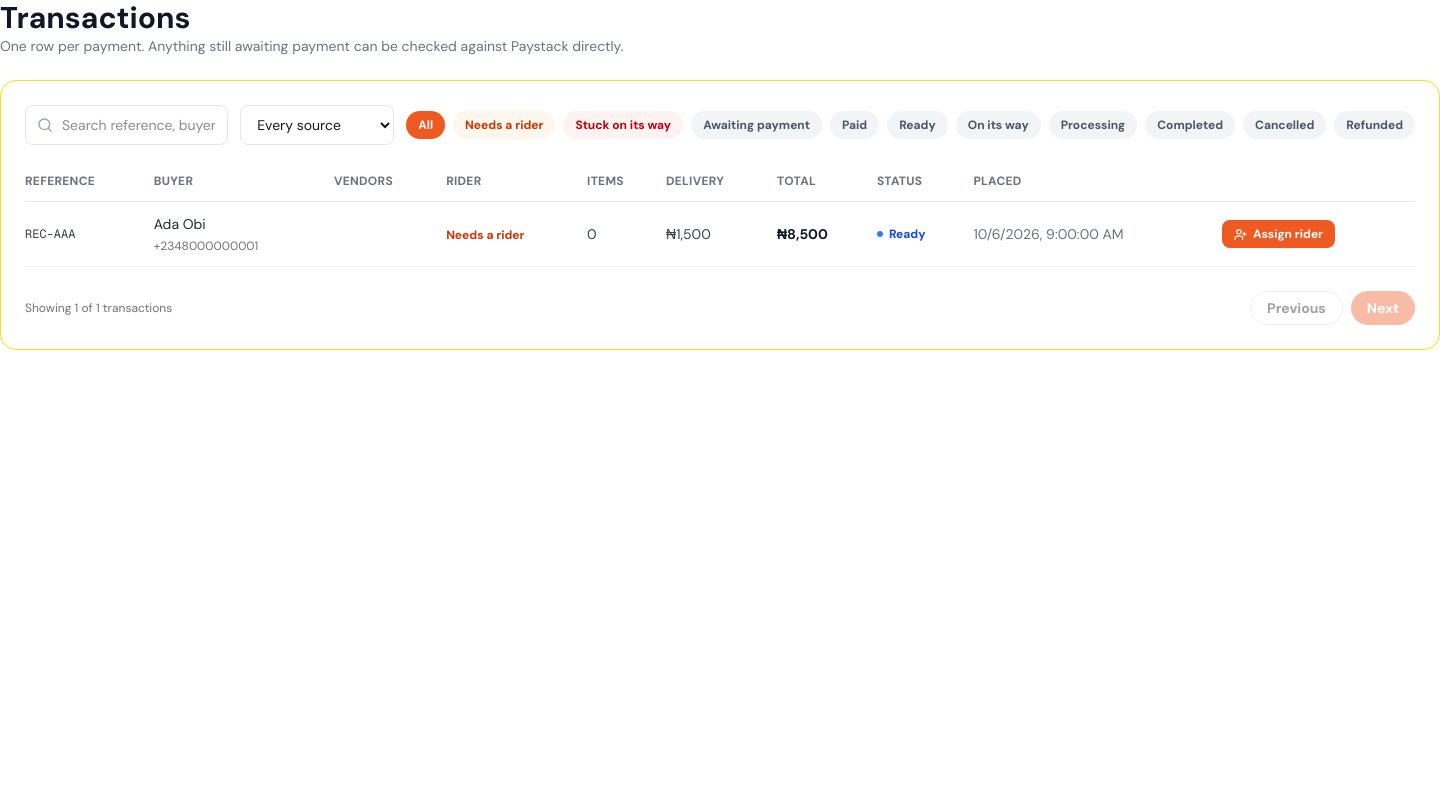
Test: Transactions — riders › opens the picker from the row
The image size is (1440, 810).
Click the button "Assign rider" at (1278, 234), box x1=1222 y1=220 x2=1335 y2=248
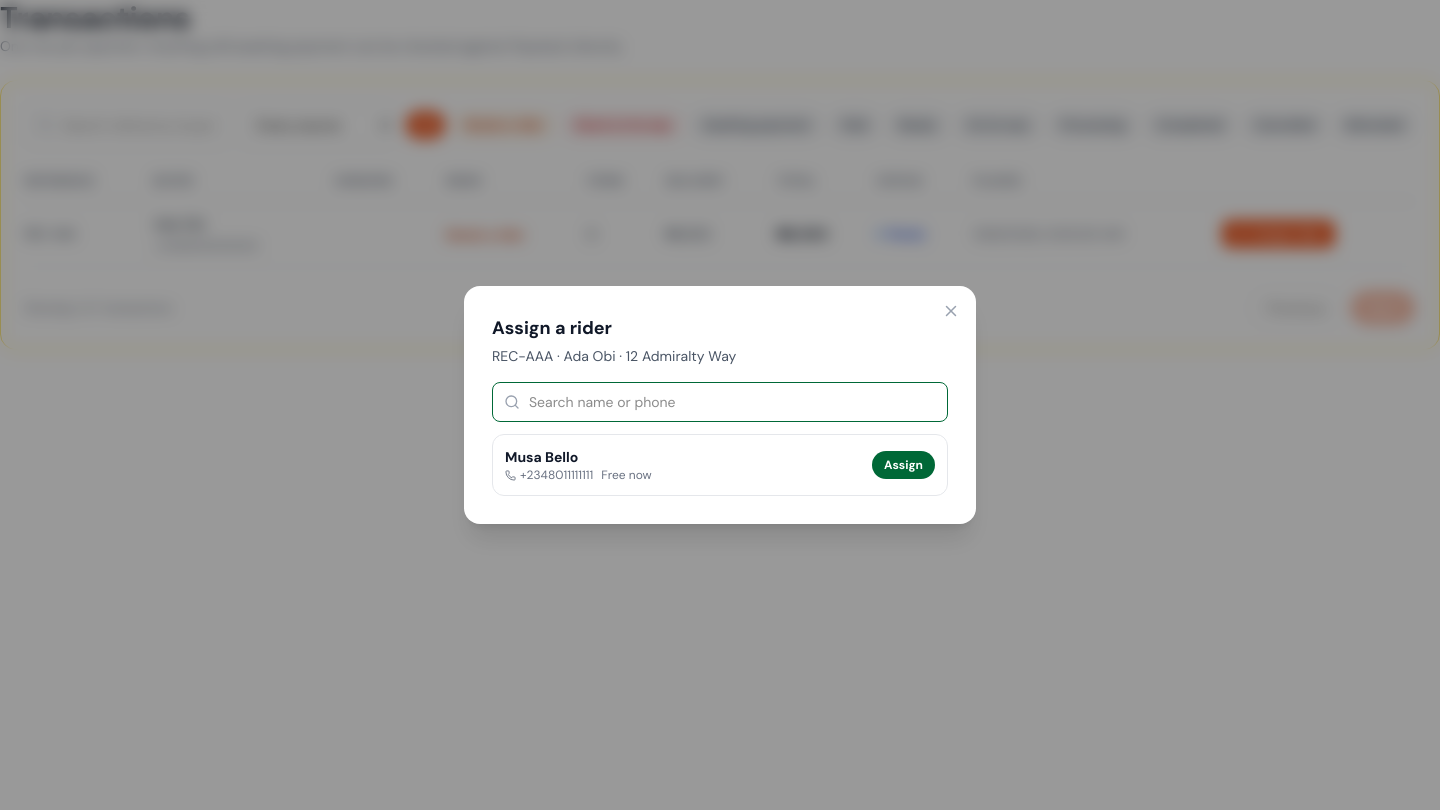
Check: the dialog shows "Assign a rider", box x1=492 y1=316 x2=612 y2=340
